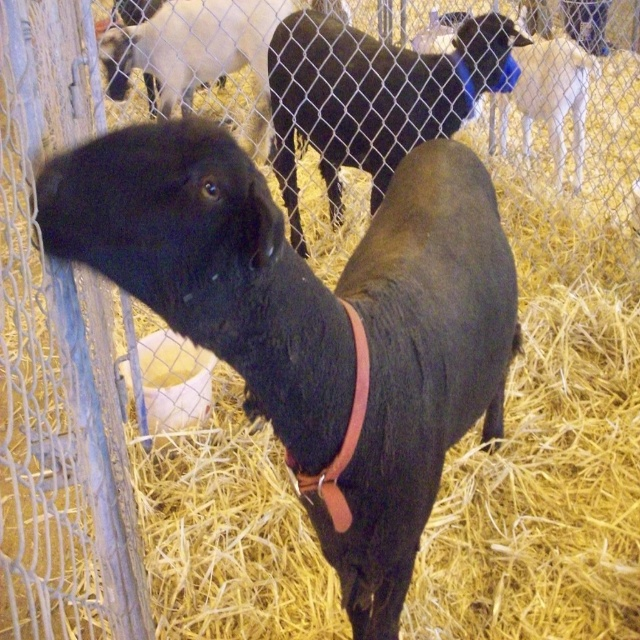Goat: (29, 1, 599, 640)
